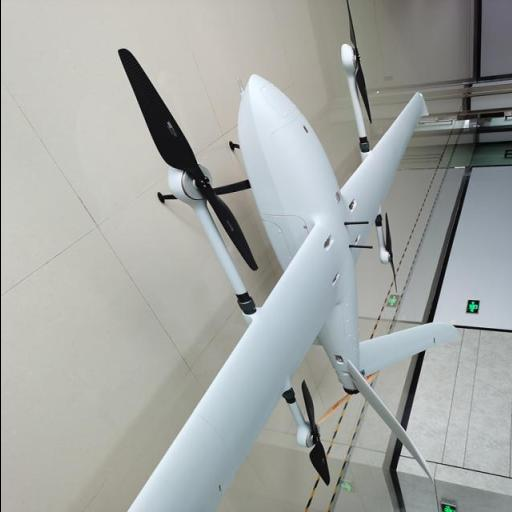uav: (130, 54, 460, 512)
